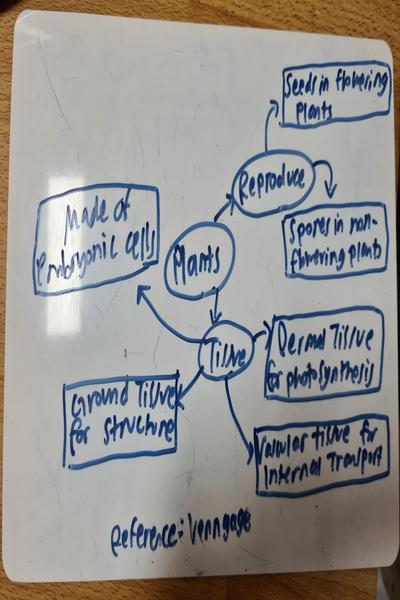arrow: (137, 284, 204, 345), (221, 375, 254, 466), (312, 156, 336, 204), (264, 98, 284, 151), (179, 366, 202, 409), (214, 196, 237, 224), (251, 324, 273, 344), (211, 292, 223, 322)
idea: (33, 184, 161, 294), (265, 305, 384, 401), (255, 414, 390, 498), (62, 374, 178, 470), (280, 202, 390, 279), (280, 61, 392, 131)
topic: (232, 150, 316, 220), (164, 222, 234, 301), (199, 323, 253, 382)
